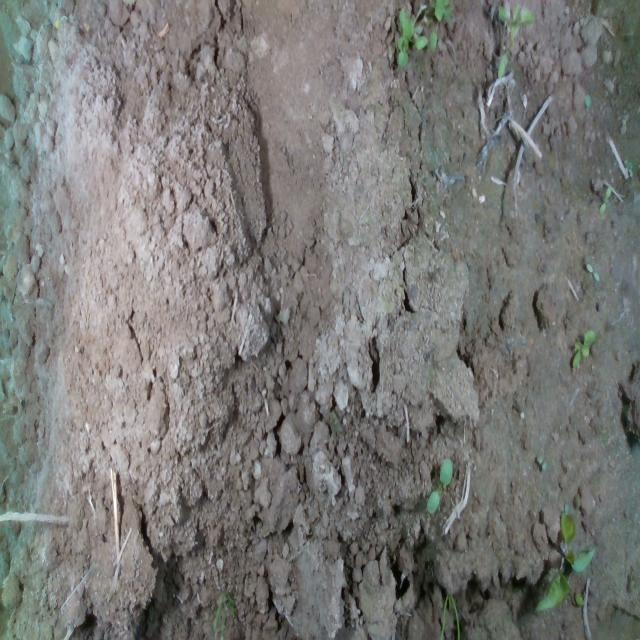weed: (426, 457, 452, 515), (571, 327, 595, 371), (598, 184, 611, 215), (585, 260, 599, 282)
